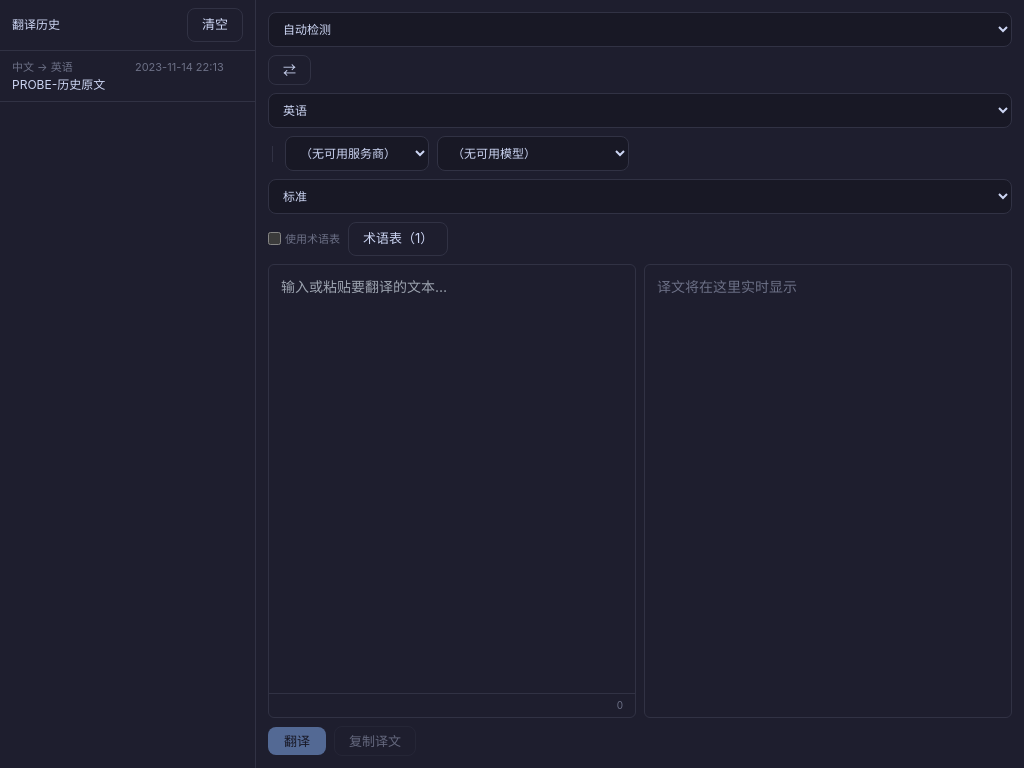
清空历史：{ok:true} 是成功，不是失败 › 确认后列表立即清空、出现空态、零 toast
The width and height of the screenshot is (1024, 768).
Click the button "清空": (215, 25) [187,8,243,42]
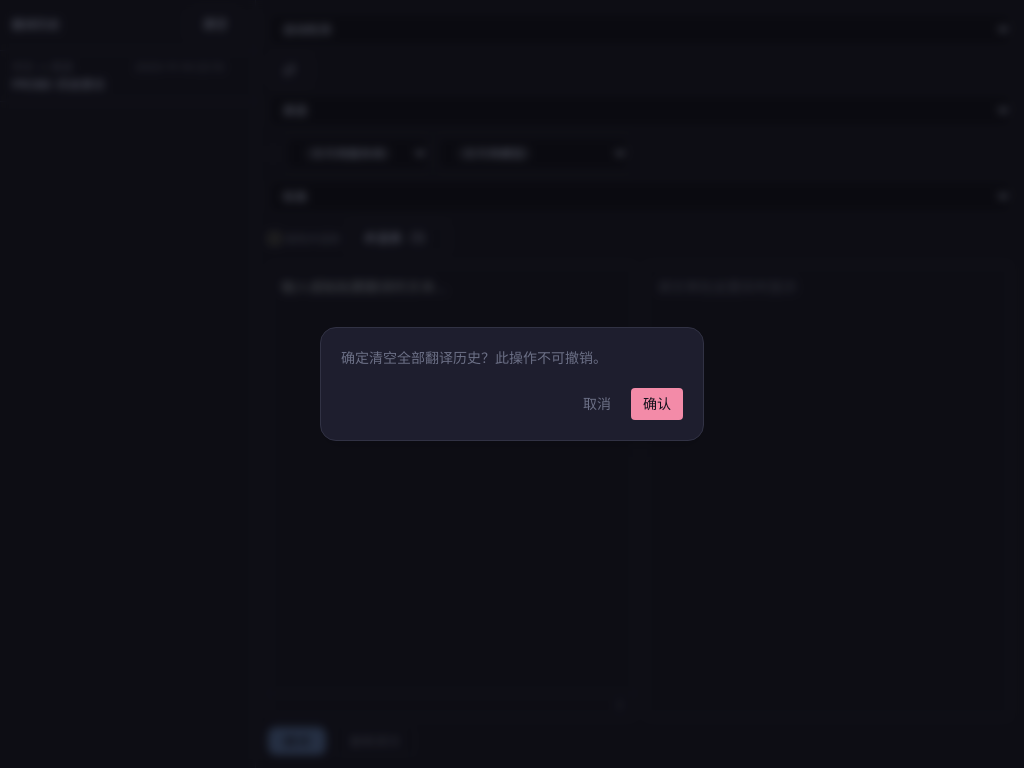
Click the button "确认": (657, 404) [631,388,683,420]
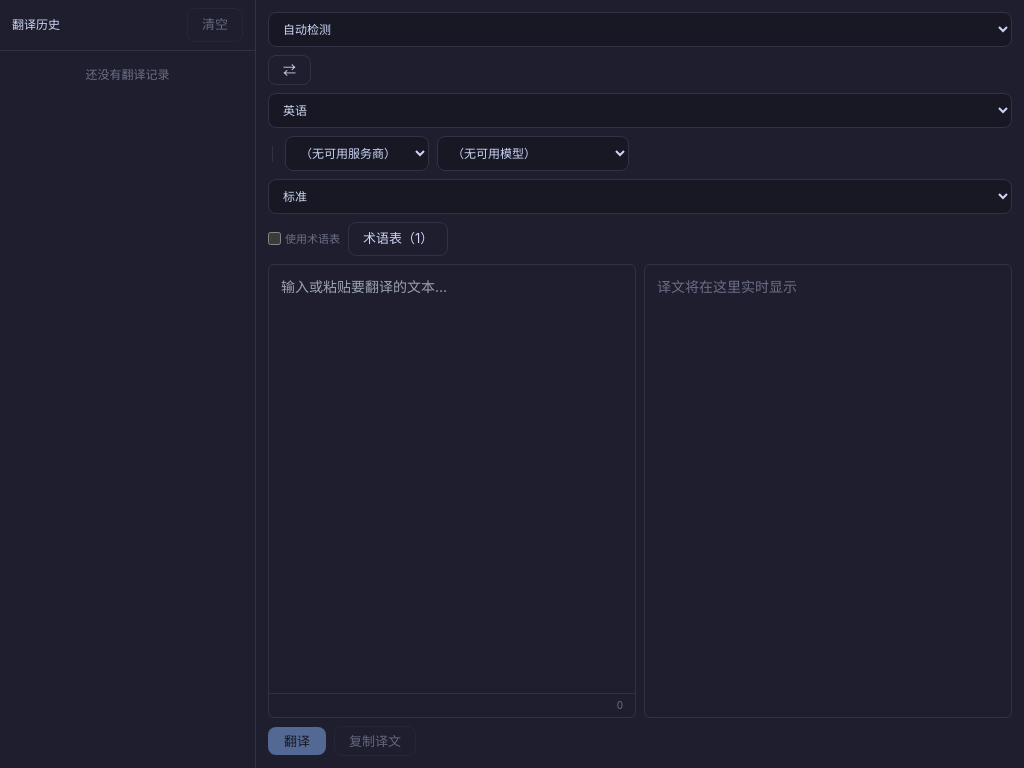
Now the text "PROBE-历史原文" is gone
Now the text "还没有翻译记录" is shown, box [86,66,170,82]
